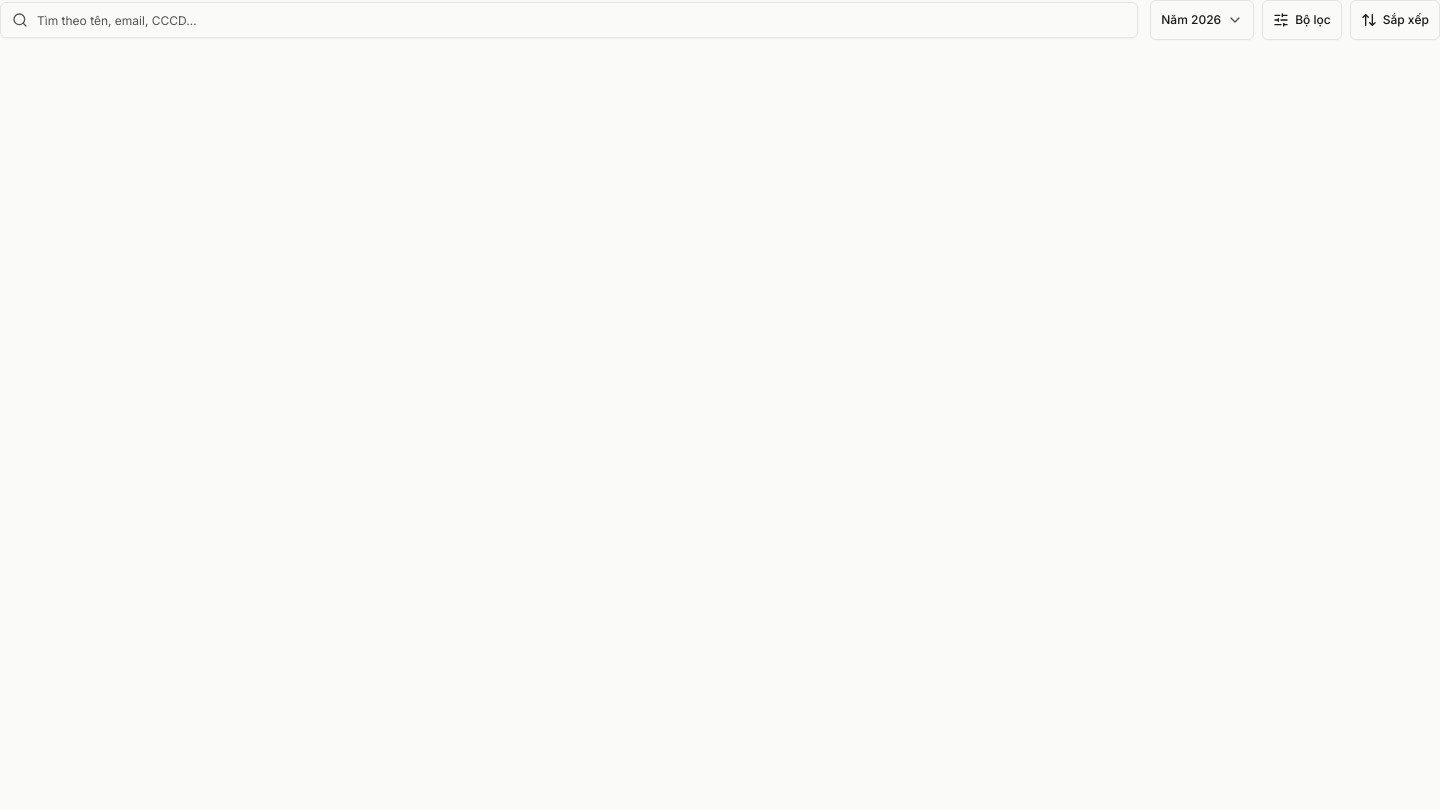
AdmissionsFilterBar › Phân công group — role gating › manager sees Cán bộ but NOT Đơn vị
Click the button with aria-label "bộ lọc nâng cao" at (1302, 20), box [1262,0,1342,40]
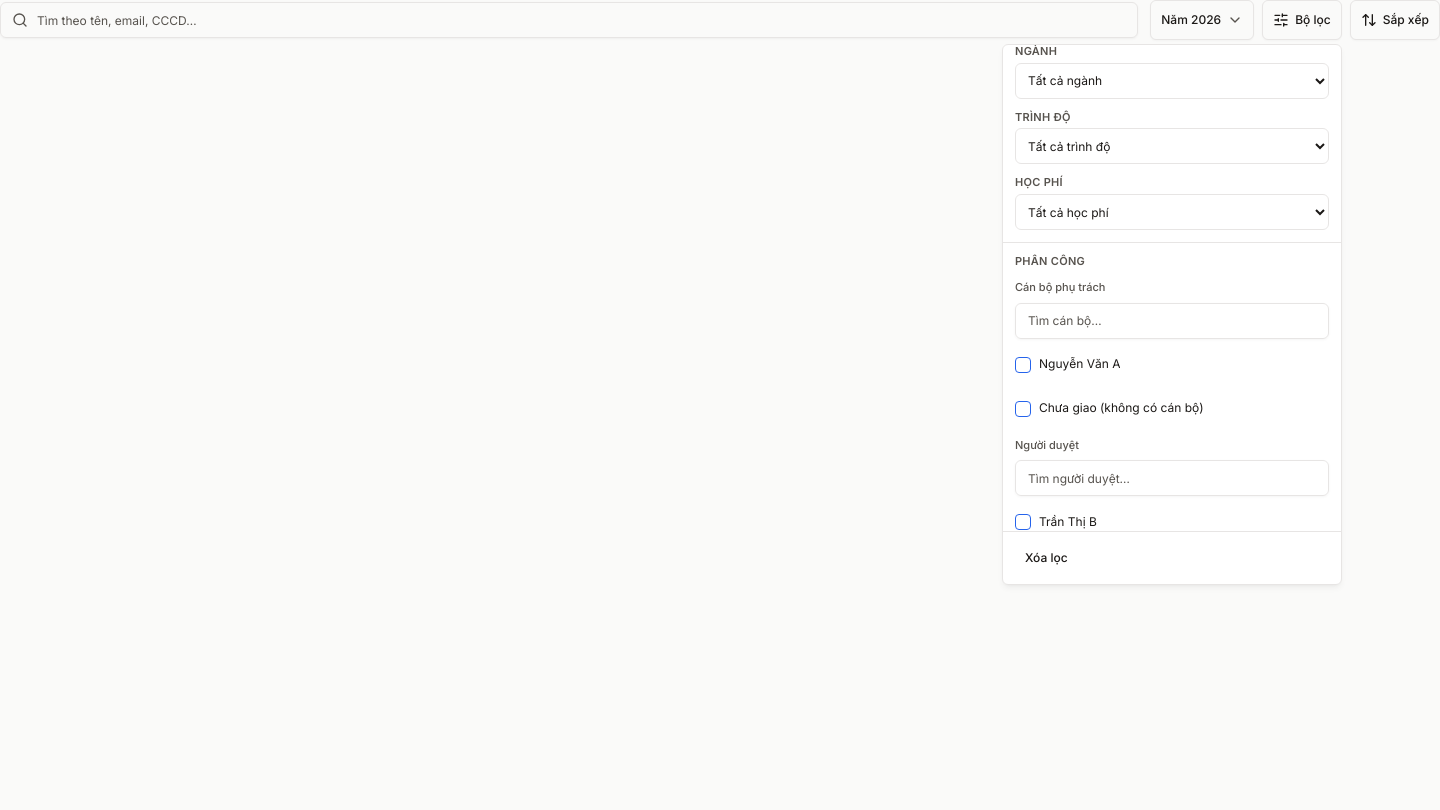
Check: the text "Cán bộ phụ trách" is shown, box [1015,280,1105,294]
